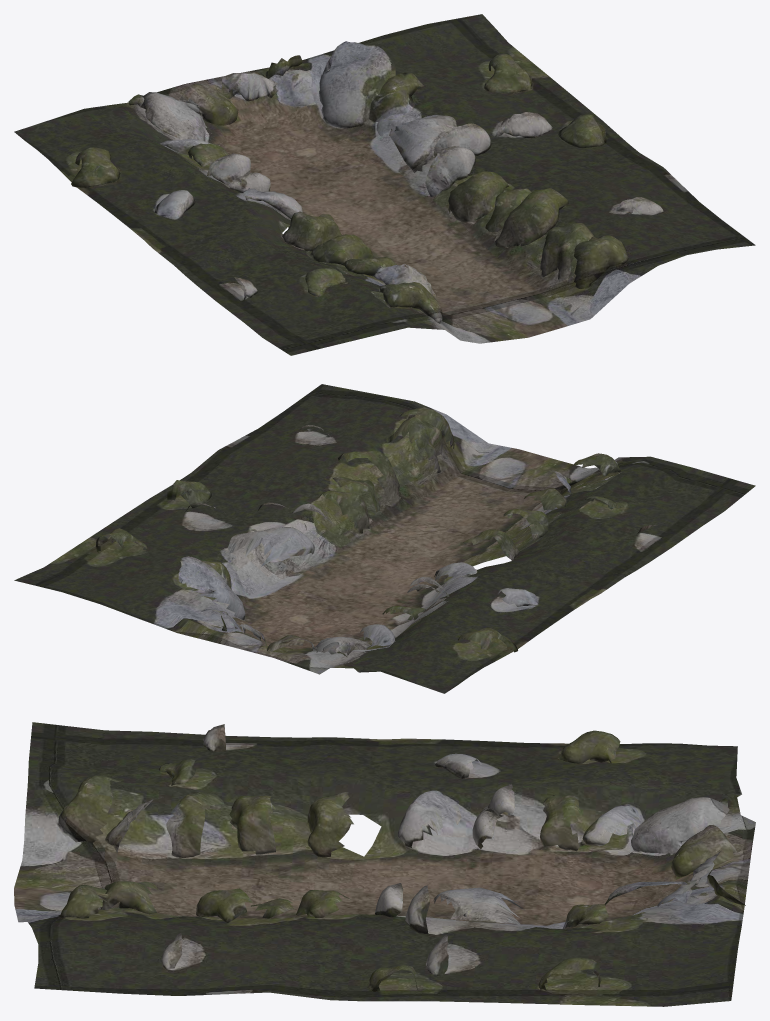
The model's file is landscape.glb.
The picture shows the model from 3 angles, top to bottom: view 1: azimuth 30°, elevation 25°; view 2: azimuth 150°, elevation 25°; view 3: azimuth 270°, elevation 25°; orthographic projection. The views are drawn at different scales.
Parts seen in each view (by area): view 1: Retopo_Mossy_Rock_1.002; view 2: Retopo_Mossy_Rock_1.002; view 3: Retopo_Mossy_Rock_1.002.
Part boxes in pixels (bbox=[...]): Retopo_Mossy_Rock_1.002: bbox=[14, 14, 755, 355]; Retopo_Mossy_Rock_1.002: bbox=[14, 384, 755, 693]; Retopo_Mossy_Rock_1.002: bbox=[14, 722, 755, 1006].
Bounding box in the file's own units: 17.21 × 2.16 × 19.4.
Materials: 1 (1 with a texture image).
